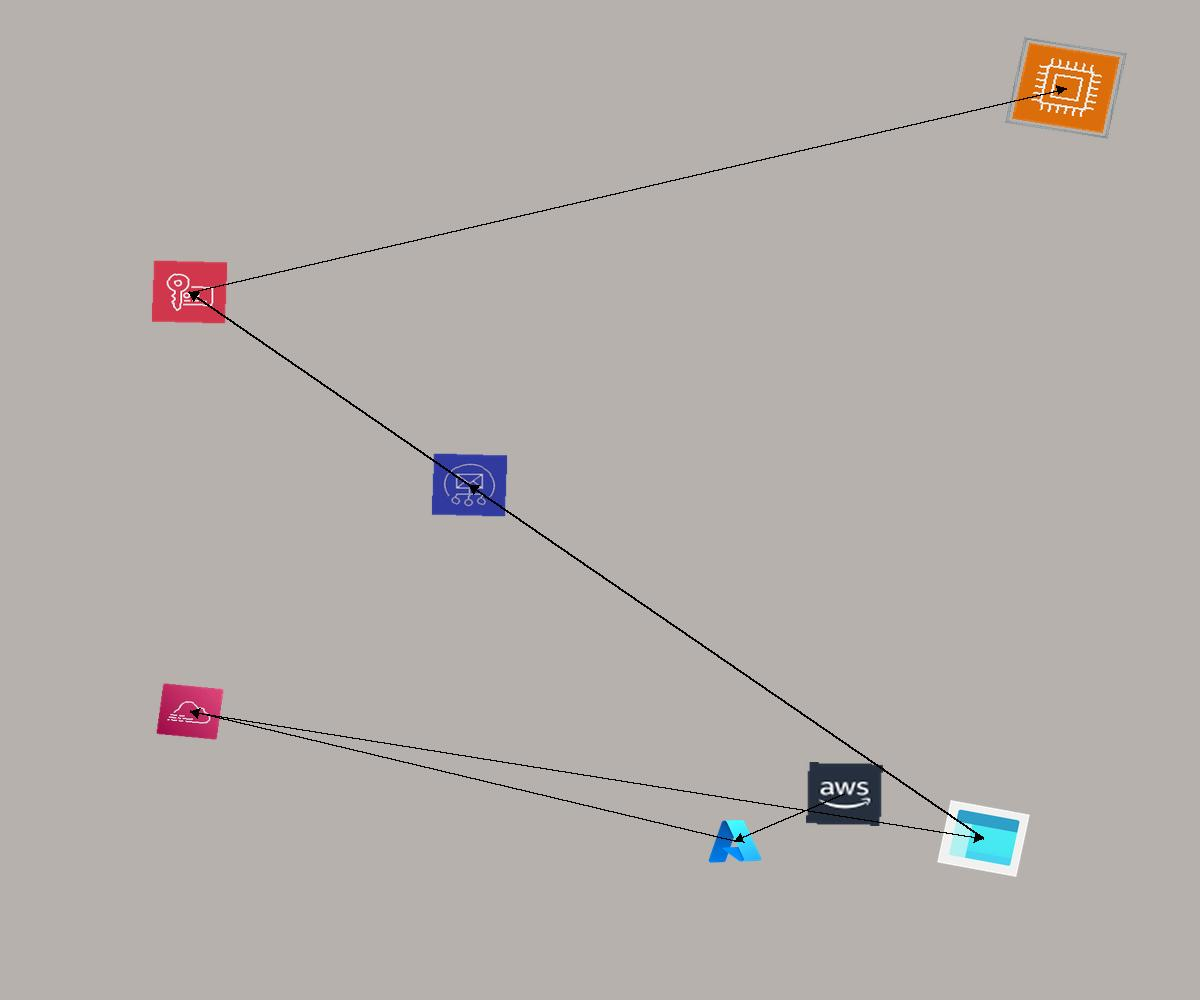AWS-Category_Compute: (1005, 37, 1127, 139)
AWS-Cloud-logo: (806, 762, 883, 826)
AWS-CloudTrail: (156, 683, 224, 740)
AWS-Key-Management-Service: (151, 260, 228, 324)
AWS-Simple-Email-Service: (431, 453, 508, 517)
Azure_management-portal: (937, 800, 1030, 877)
Azure_services: (704, 816, 764, 866)
